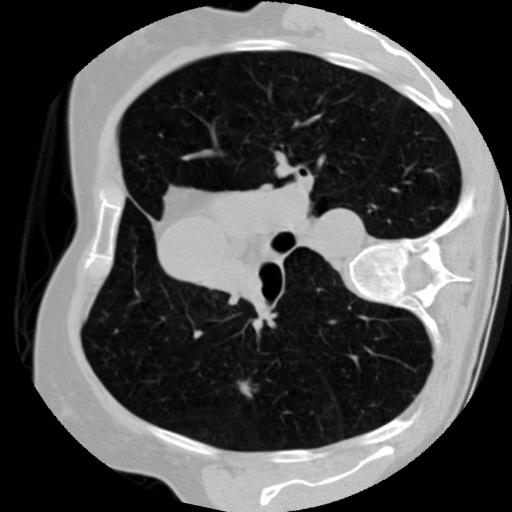nodule: (234, 377, 259, 402)
